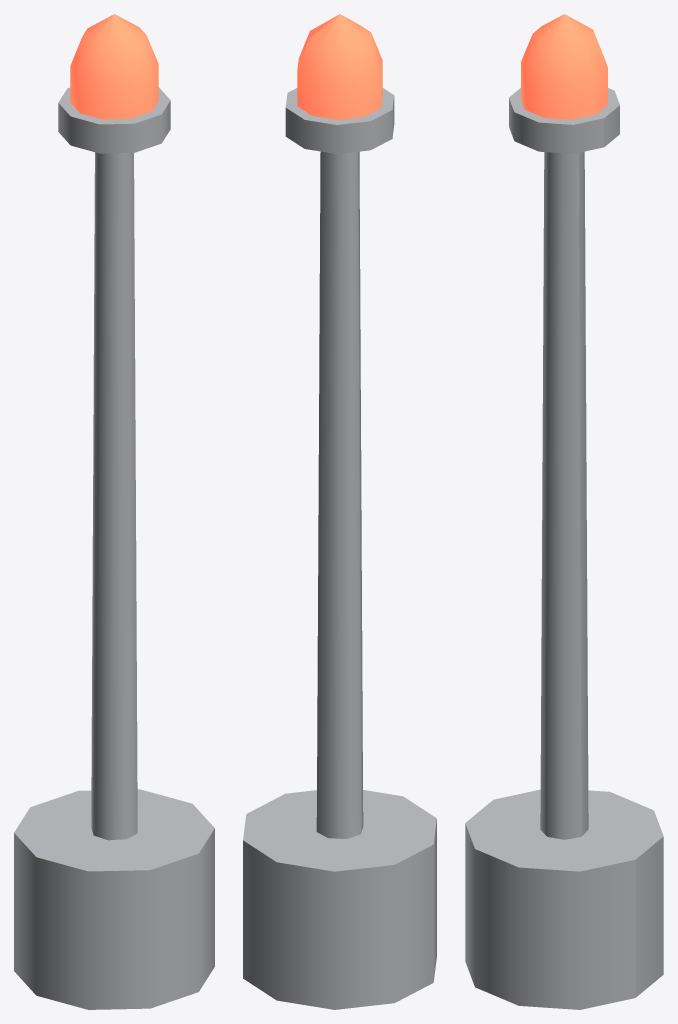
File: beacon-post.glb
3 views of the same model, side by side, from view 1: azimuth 30°, elevation 25°; view 2: azimuth 150°, elevation 25°; view 3: azimuth 270°, elevation 25° (orthographic).
Parts seen in each view (by area): view 1: beacon-post; view 2: beacon-post; view 3: beacon-post.
Boxes of the visible parts, x1,y1,x2,y2 form: beacon-post: (14, 14, 214, 1009); beacon-post: (243, 14, 436, 1009); beacon-post: (465, 14, 663, 1009).
Size of the model in its own units: 0.4938 by 2.62 by 0.4938.
